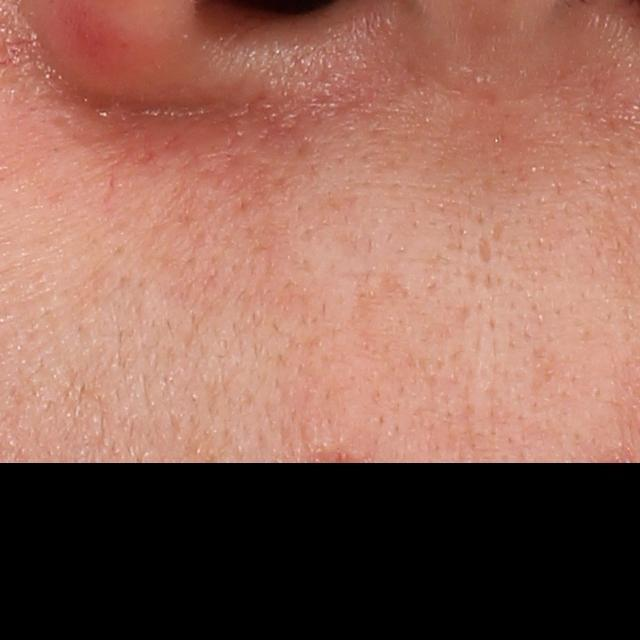atrophic_scar: (475, 230, 493, 264)
